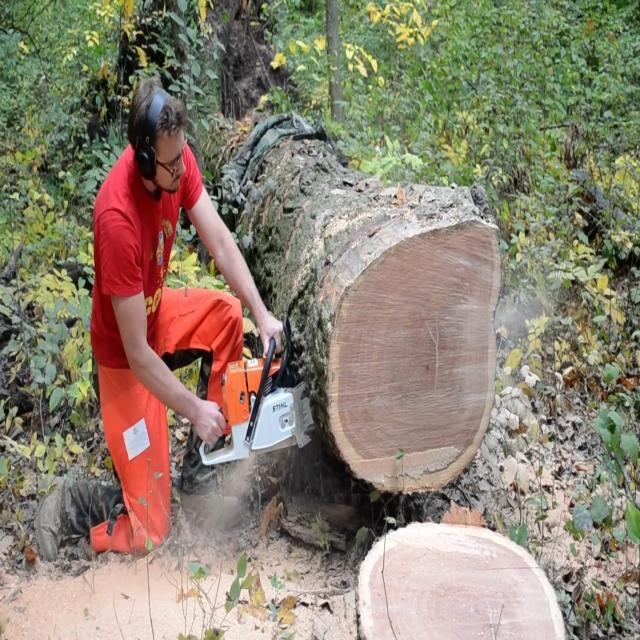Chainsaw: (185, 299, 328, 474)
